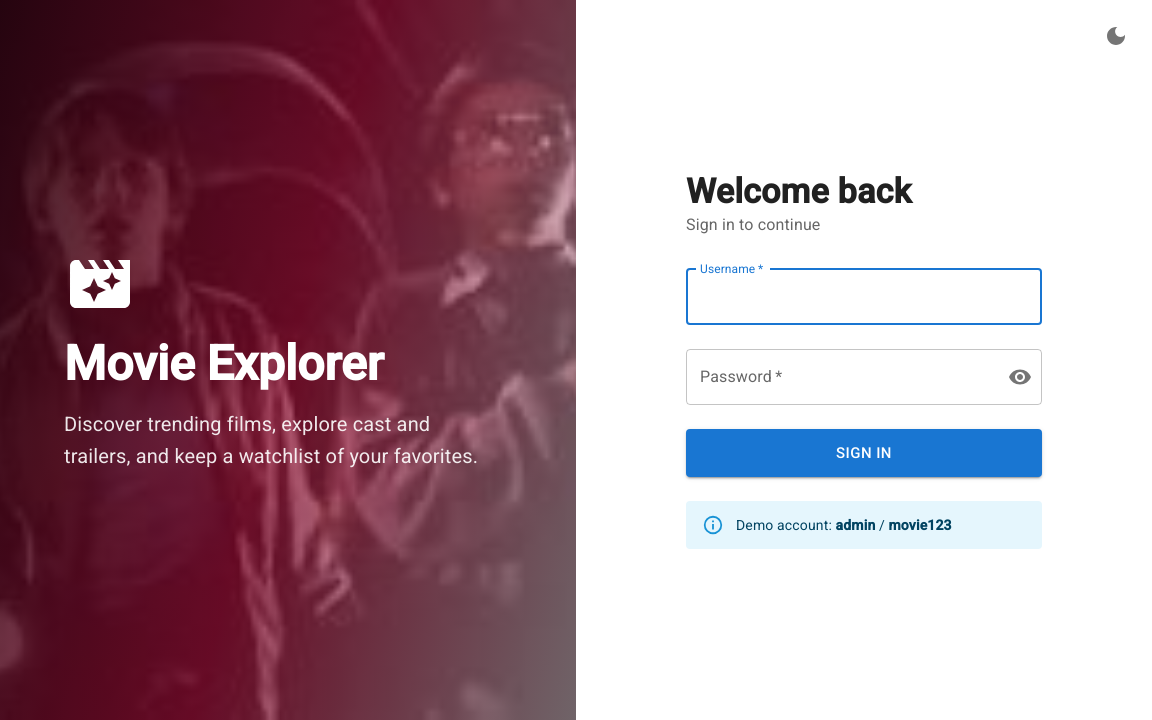
Test: shows an error for wrong credentials
Type "bad" into the field labelled "Username *" at (864, 297), box [686,269,1042,325]
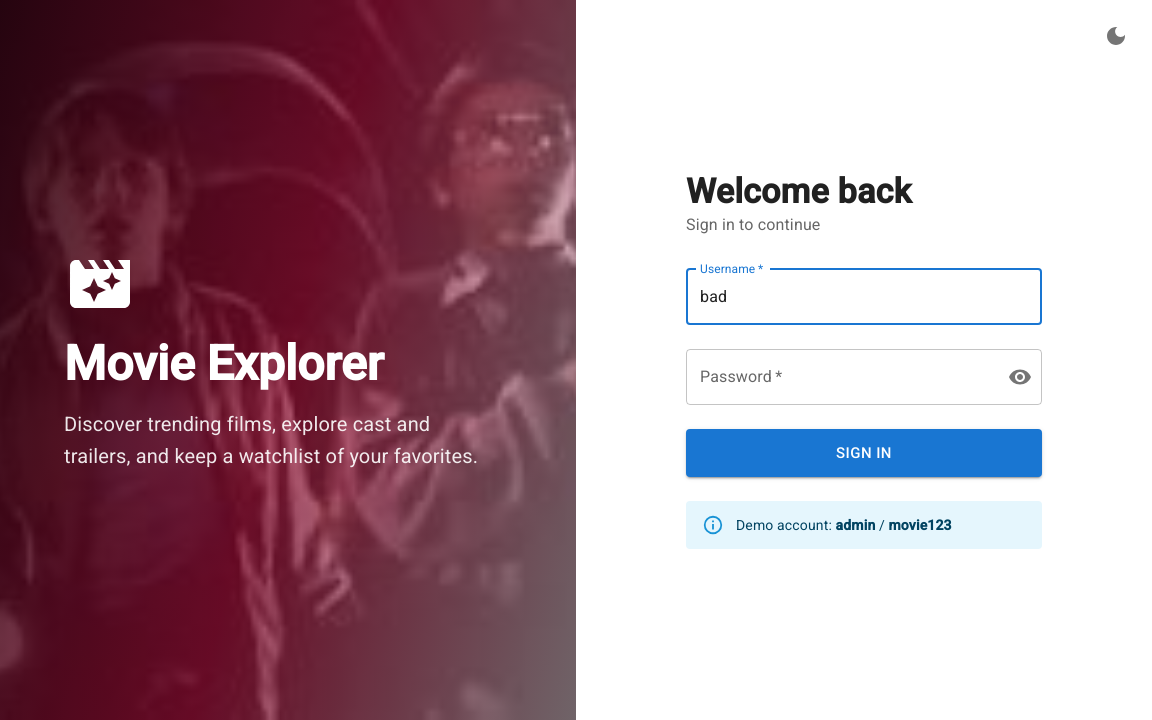
Type "wrong" into the password field labelled "Password *" at (839, 377), box [686,349,992,405]
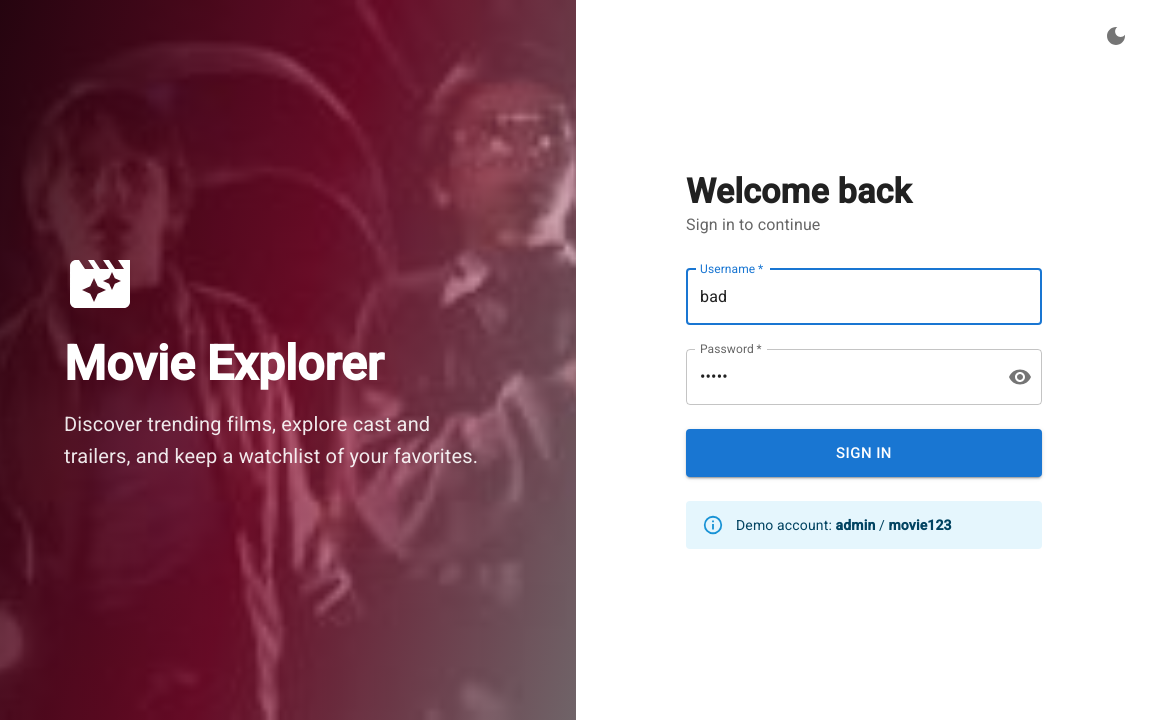
Click the button "Sign in" at (864, 453), box [686,429,1042,477]
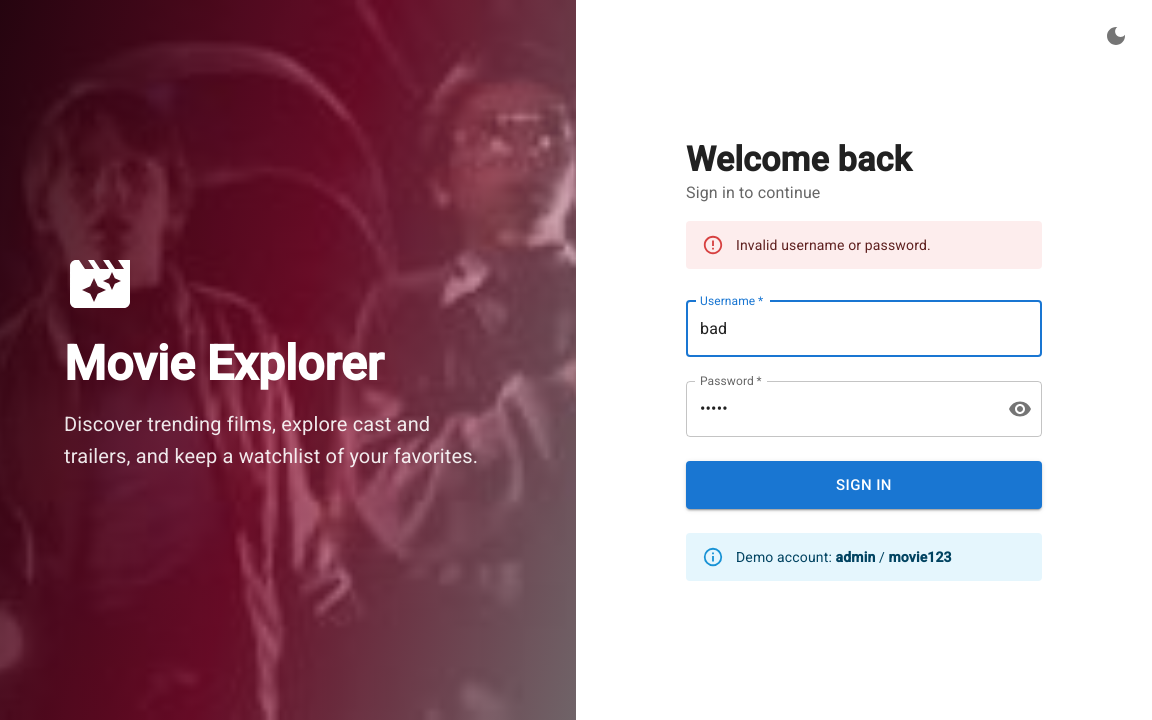
Expected: the text "Invalid username or password." is shown, [736,237,931,253]
